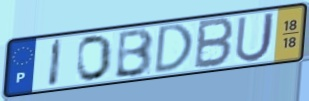B: (192, 16, 236, 71), (113, 26, 156, 80)
D: (152, 22, 195, 76)
I: (46, 37, 65, 89)
O: (76, 33, 114, 83)
U: (233, 10, 277, 64)
